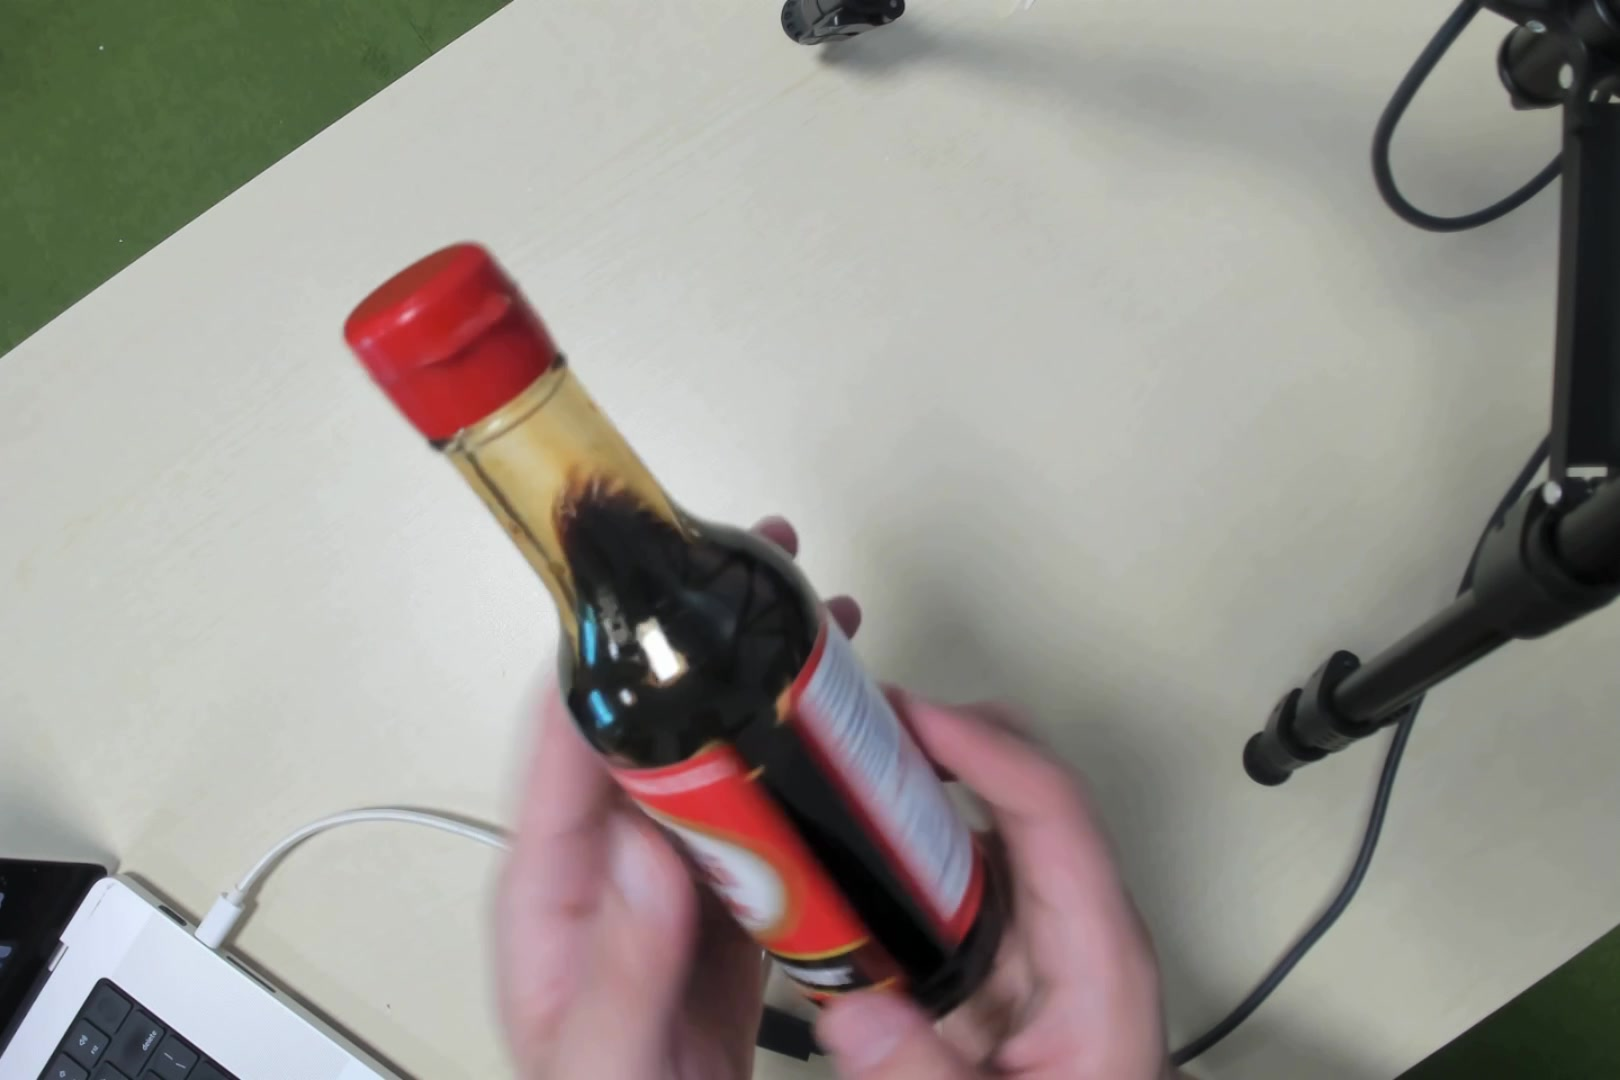OtherSauceDressingSoupbasePaste_200-299g_NonHalal_NonHealthy: (403, 274, 1020, 984)
